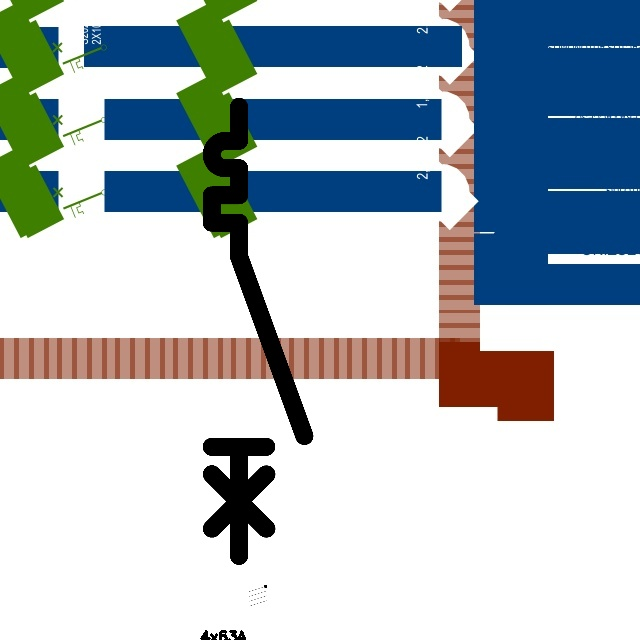interruptor_termomagnetico: (200, 95, 315, 567)
